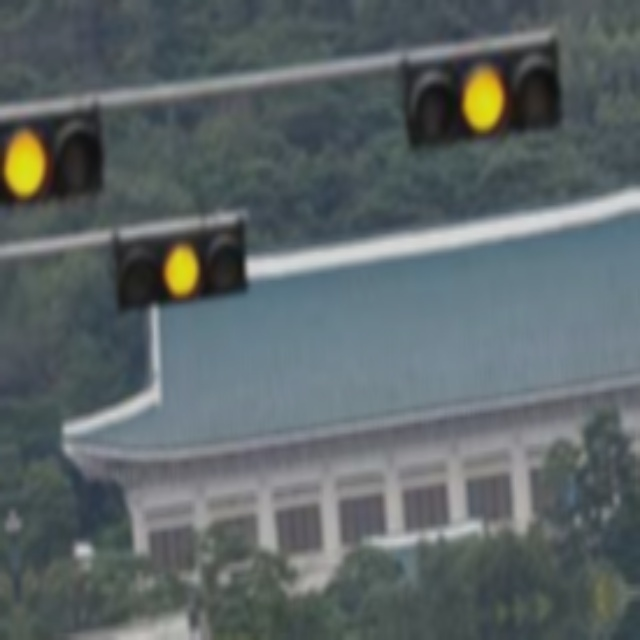yellow_light: (0, 129, 48, 201), (460, 67, 509, 133), (162, 240, 202, 298)
